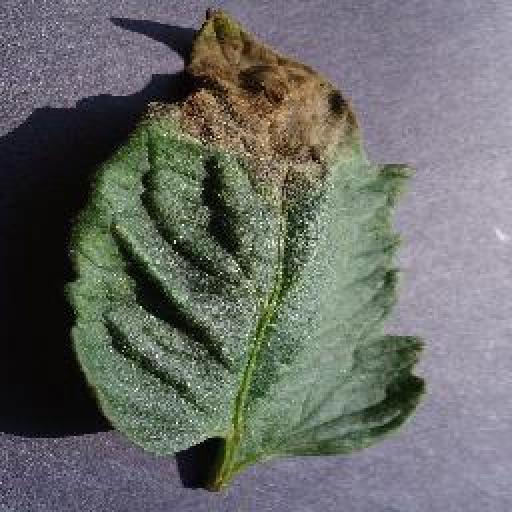Late Blight: (72, 4, 429, 464)
